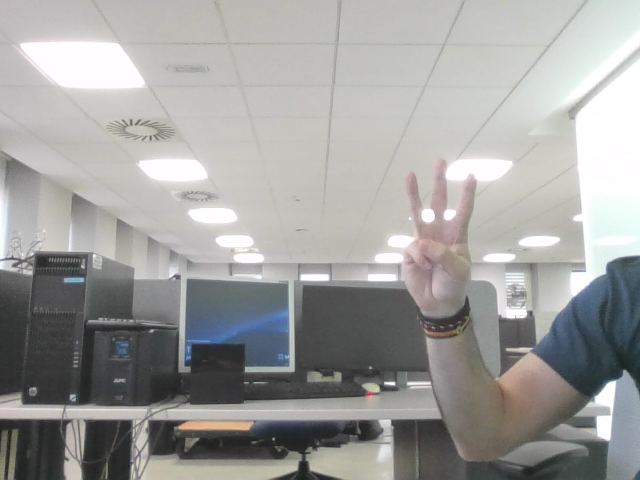3Dedos: (406, 170, 466, 287)
